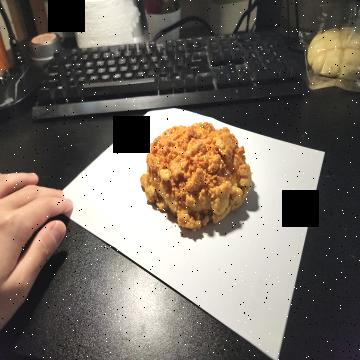soboru_bread: (139, 121, 252, 235)
